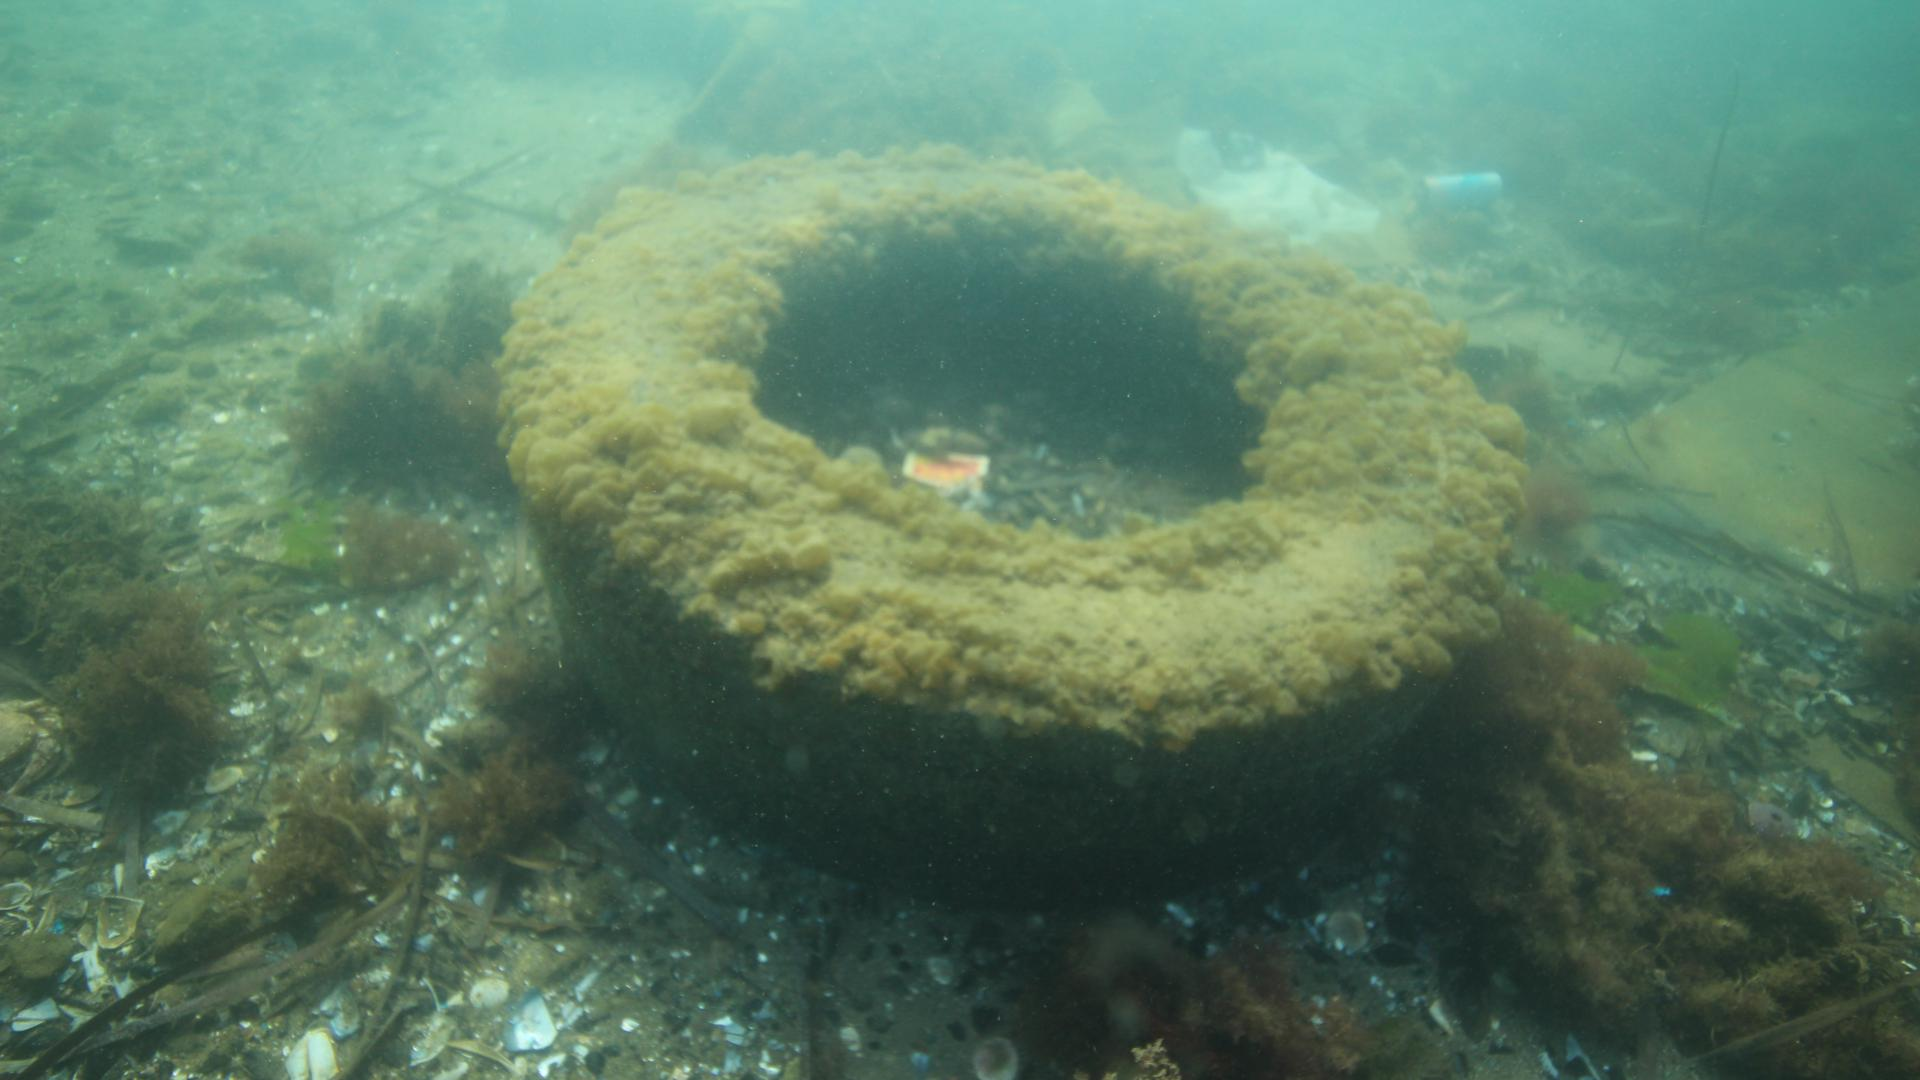tire: (521, 152, 1499, 887)
